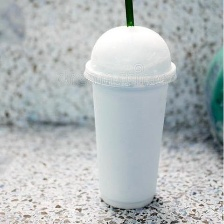drinking_straw: (120, 0, 137, 29)
glass: (80, 19, 185, 213)
